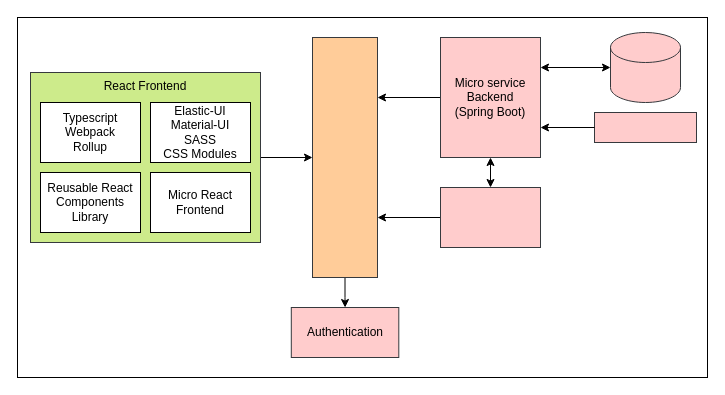
Image size: 725x395. Some labels were removed from this diagram. The centre of each missing label's shape, as x and y in pixels:
"API Gateway (Nginx)" goes at (x=345, y=157).
"Config Server" goes at (x=645, y=127).
"Databases" goes at (x=645, y=67).
"Service Discovery (Consul)" goes at (x=490, y=217).
